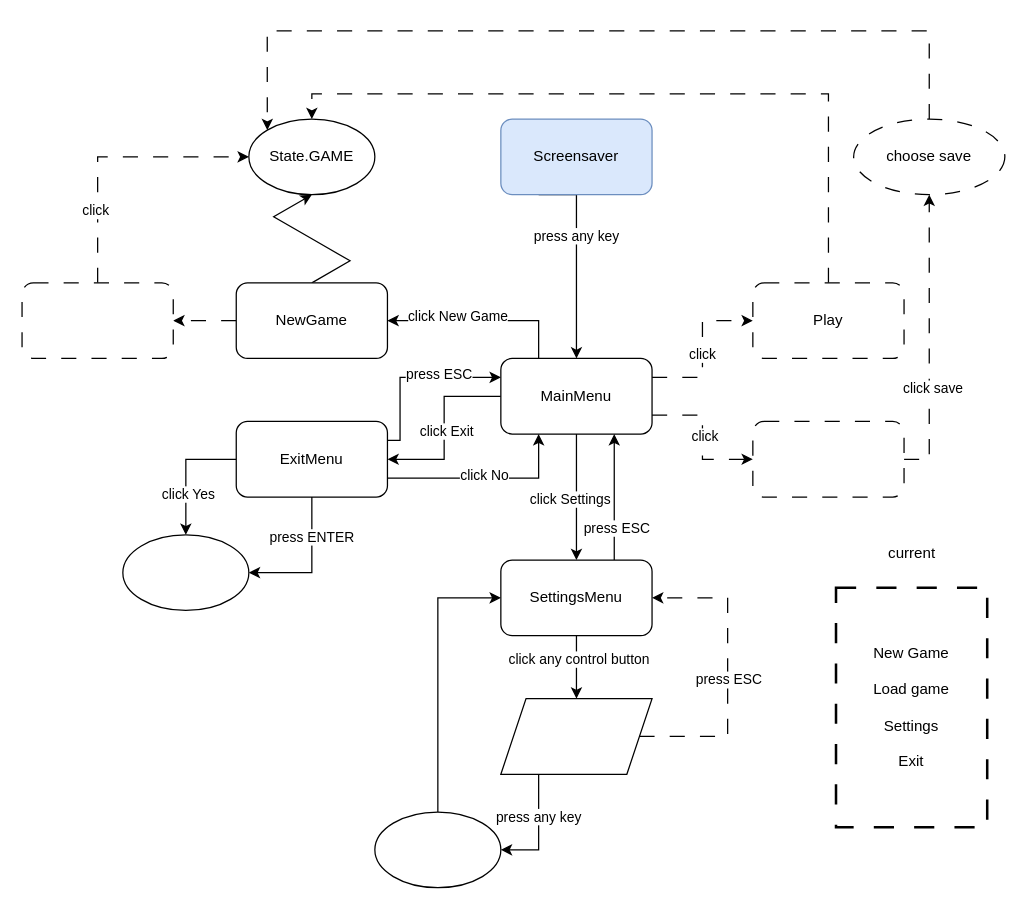
Some shapes in this 1027 by 910 pixel diagram are drawn without their labels. Here are the shapes that lost their labels. From the top down, the centre of each, then its label:
pixel 97 320: setup game settings
pixel 828 458: LoadGameMenu
pixel 185 572: Exit game
pixel 576 735: control buttons
pixel 437 849: change control
